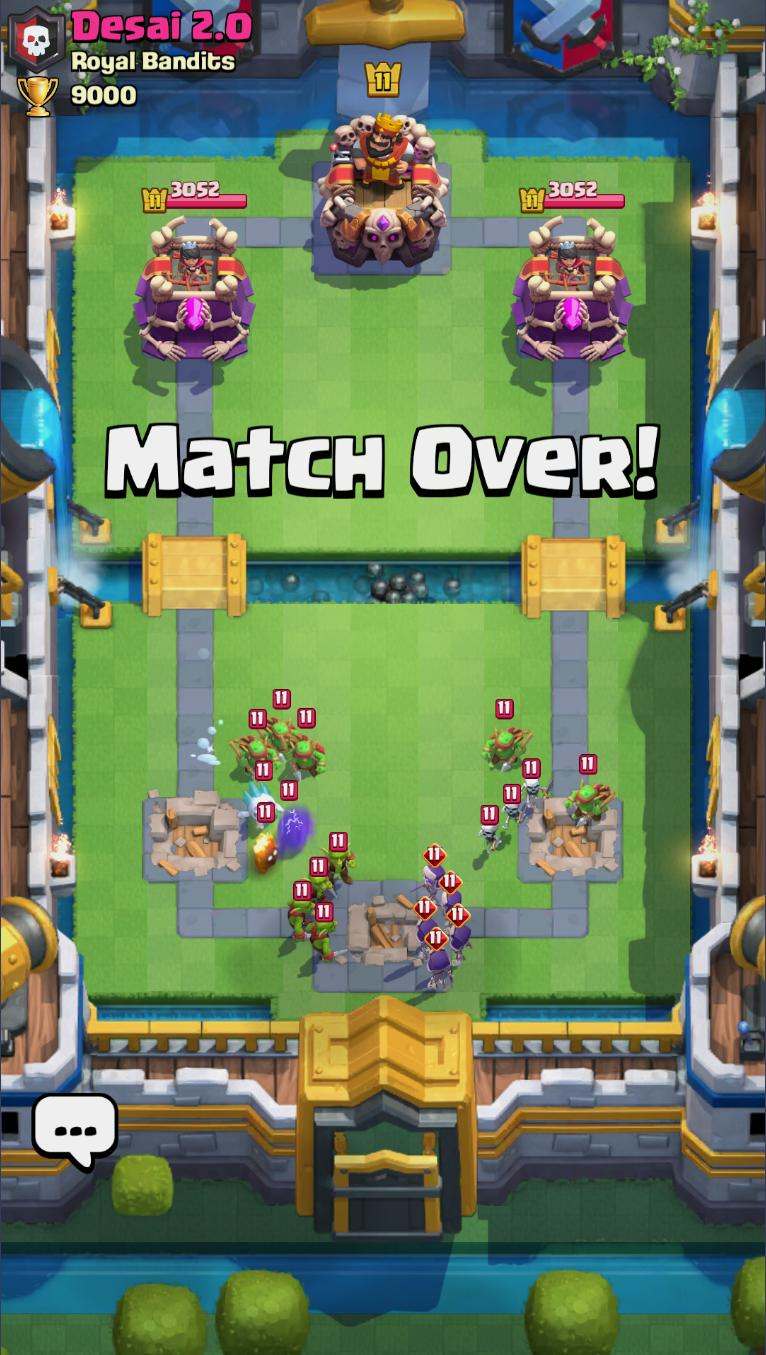ElectroSpirit: (275, 785, 314, 862)
EnemyTower: (509, 214, 637, 369), (131, 216, 259, 368)
EvoSkeleton: (415, 929, 457, 995), (441, 906, 474, 977), (436, 871, 467, 932), (423, 848, 447, 910), (411, 897, 434, 951)
FireSpirit: (244, 805, 281, 877)
Goblin: (304, 903, 342, 970), (318, 833, 358, 889), (285, 883, 319, 941), (300, 858, 334, 908)
IceSpirit: (236, 761, 285, 830)
KingTower: (315, 111, 455, 272)
MatchOver: (105, 419, 664, 501)
MyKingTowerBrocken: (306, 874, 461, 998)
MyPrincessTowerBrocken: (139, 794, 243, 885), (517, 795, 625, 882)
PrincessTower: (165, 238, 217, 290), (547, 237, 593, 288)
Skeleton: (511, 760, 558, 809), (471, 804, 512, 859), (496, 782, 529, 837)
SpearGoblin: (483, 701, 536, 781), (565, 757, 618, 831), (231, 713, 275, 784), (281, 712, 324, 784), (258, 690, 298, 757)
TowerPrincessHP: (519, 179, 629, 215), (140, 180, 250, 214)
